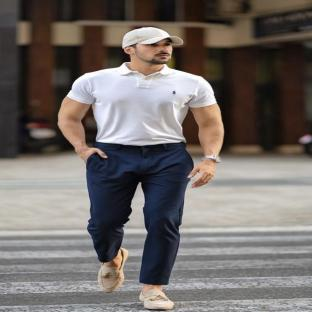Human: (59, 27, 223, 309)
